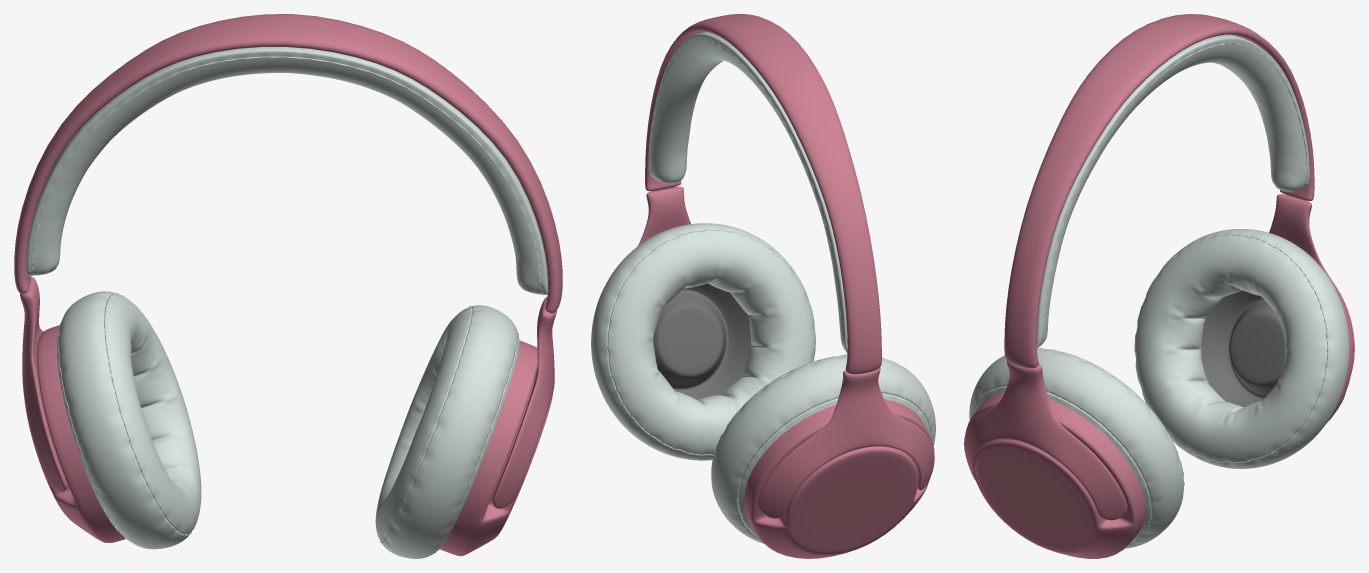
The model's file is headphones.gltf.
3 views of the same model, side by side, from view 1: azimuth 30°, elevation 25°; view 2: azimuth 150°, elevation 25°; view 3: azimuth 270°, elevation 25° (orthographic). The views are drawn at different scales.
Parts seen in each view (by area): view 1: EarCup, Cube.001, Cube, EarPice, Joint; view 2: EarCup, EarPice, Cube, Joint, Cube.001; view 3: EarCup, EarPice, Cube, Cube.001, Joint.
Boxes of the visible parts, <box> form: EarCup: <box>57,291,519,558</box>; Cube.001: <box>26,47,547,294</box>; Cube: <box>14,14,562,313</box>; EarPice: <box>24,325,552,556</box>; Joint: <box>20,277,556,508</box>; EarCup: <box>591,223,935,543</box>; EarPice: <box>607,250,934,558</box>; Cube: <box>645,14,881,374</box>; Joint: <box>637,186,934,518</box>; Cube.001: <box>648,32,847,352</box>; EarCup: <box>969,229,1349,548</box>; EarPice: <box>965,255,1353,558</box>; Cube: <box>1004,14,1314,368</box>; Cube.001: <box>1037,34,1309,348</box>; Joint: <box>964,194,1354,520</box>.
Size of the model in its own units: 4.37 by 5.04 by 3.81.
